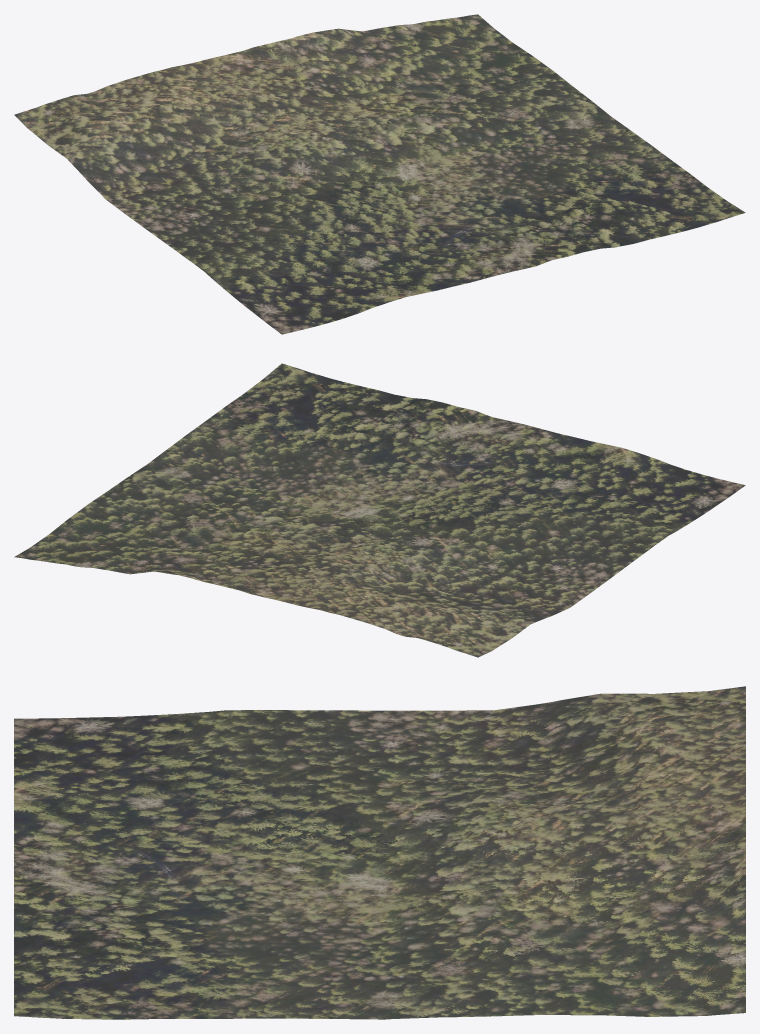
Rendered from CM_Terrain_24490868_6822456.fbx.
The picture shows the model from 3 angles, top to bottom: view 1: azimuth 30°, elevation 25°; view 2: azimuth 150°, elevation 25°; view 3: azimuth 270°, elevation 25°; orthographic projection. The views are drawn at different scales.
Parts seen in each view (by area): view 1: CM_Terrain_24490868_6822456_LOD0; view 2: CM_Terrain_24490868_6822456_LOD0; view 3: CM_Terrain_24490868_6822456_LOD0.
Part boxes in pixels (bbox=[...]): CM_Terrain_24490868_6822456_LOD0: bbox=[14, 14, 745, 334]; CM_Terrain_24490868_6822456_LOD0: bbox=[14, 363, 745, 657]; CM_Terrain_24490868_6822456_LOD0: bbox=[14, 686, 745, 1019].
Size of what is drawn, in the model's own units: 205 by 14.06 by 205.
